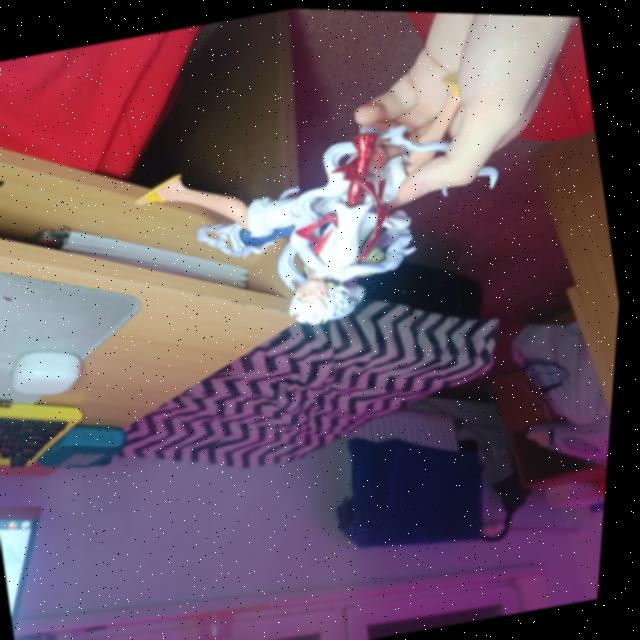luffy: (118, 94, 493, 362)
